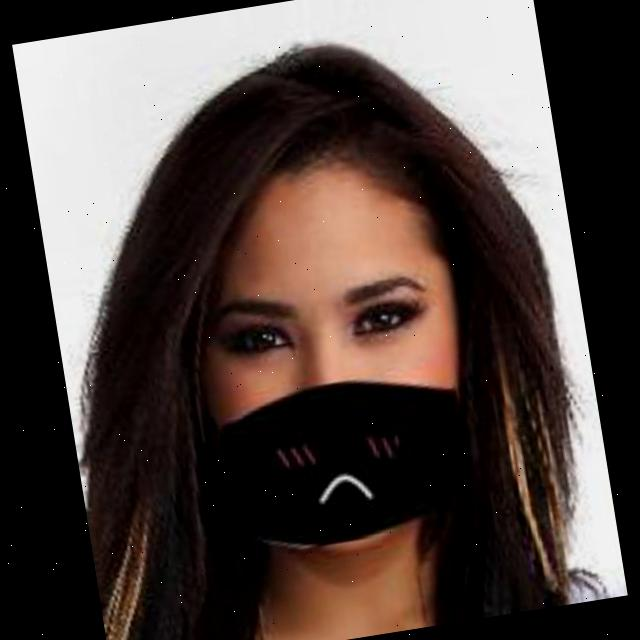suspicion: (134, 116, 528, 554)
